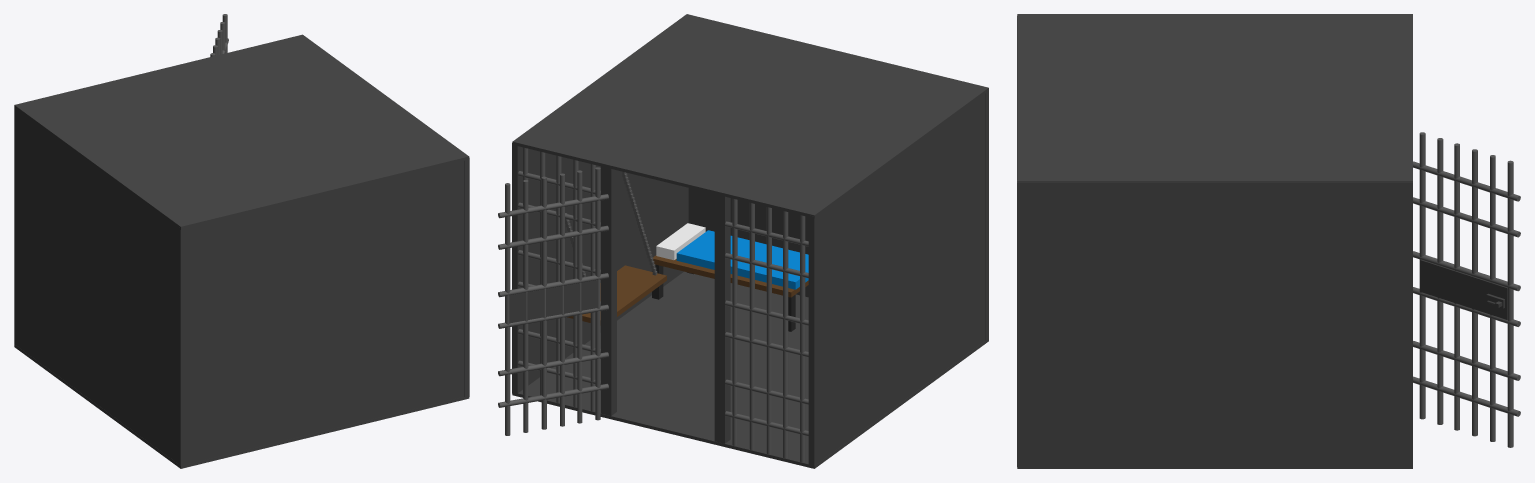
File: Jail-Acik_GenisKapi.fbx
3 views of the same model, side by side, from view 1: azimuth 30°, elevation 25°; view 2: azimuth 150°, elevation 25°; view 3: azimuth 270°, elevation 25° (orthographic). The views are drawn at different scales.
Parts seen in each view (by area): view 1: Alt_Zemin; view 2: Alt_Zemin; view 3: Alt_Zemin.
Part boxes in pixels (<box>): Alt_Zemin: <box>14,14,469,468</box>; Alt_Zemin: <box>498,14,988,468</box>; Alt_Zemin: <box>1017,14,1520,468</box>.
Bounding box in the file's own units: 2003 × 1604 × 2546.
